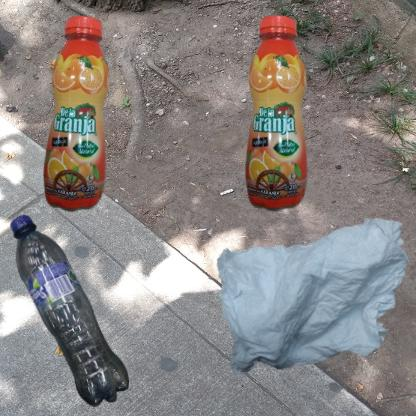botella: (10, 10, 178, 262), (213, 10, 367, 252), (10, 213, 129, 409)
papel: (213, 213, 416, 381)
